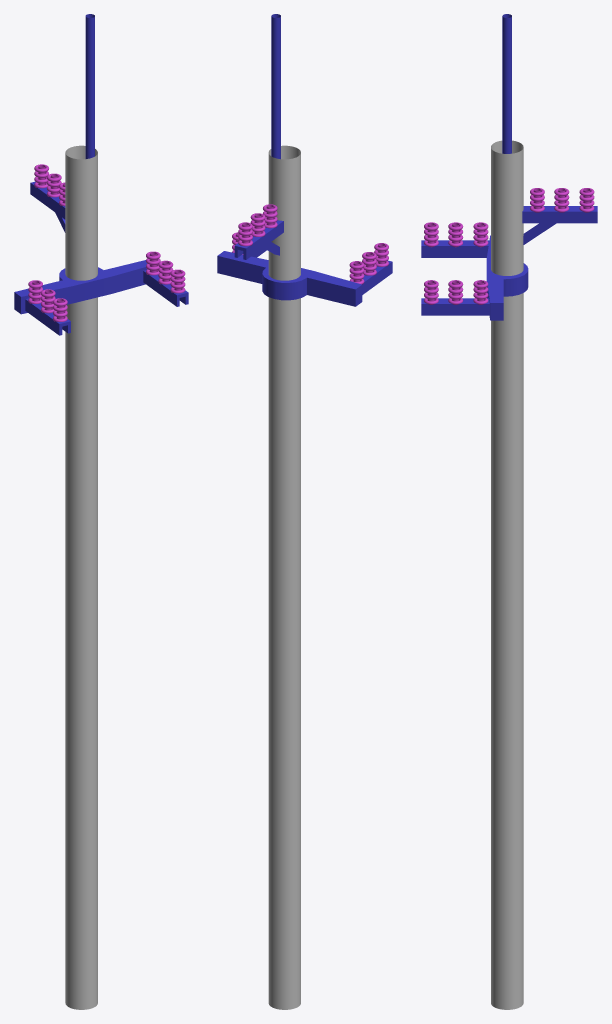
Rendered from poteau_001.fbx.
The picture shows the model from 3 angles, left to right: view 1: azimuth 30°, elevation 25°; view 2: azimuth 150°, elevation 25°; view 3: azimuth 270°, elevation 25°; orthographic projection.
Parts seen in each view (by area): view 1: Cylinder, Cube_1, Cylinder_2, Cube, Cube_2, Cube_3; view 2: Cylinder, Cube_1, Cylinder_2, Cube_3, Cube_2; view 3: Cylinder, Cube_1, Cylinder_2, Cube_3, Cube, Cube_2.
Boxes of the visible parts, x1,y1,x2,y2 form: Cylinder: (65, 145, 97, 1009); Cube_1: (14, 260, 147, 314); Cylinder_2: (85, 14, 94, 158); Cube: (143, 270, 188, 306); Cube_2: (25, 298, 70, 335); Cube_3: (30, 181, 65, 219); Cylinder: (268, 145, 300, 1009); Cube_1: (217, 251, 362, 306); Cylinder_2: (271, 14, 280, 159); Cube_3: (234, 220, 283, 259); Cube_2: (362, 260, 392, 294); Cylinder: (491, 140, 523, 1009); Cube_1: (486, 235, 528, 320); Cylinder_2: (502, 14, 511, 153); Cube_3: (522, 206, 597, 223); Cube: (421, 298, 489, 315); Cube_2: (421, 240, 489, 257).
Size of the model in its own units: 139 by 944 by 152.
